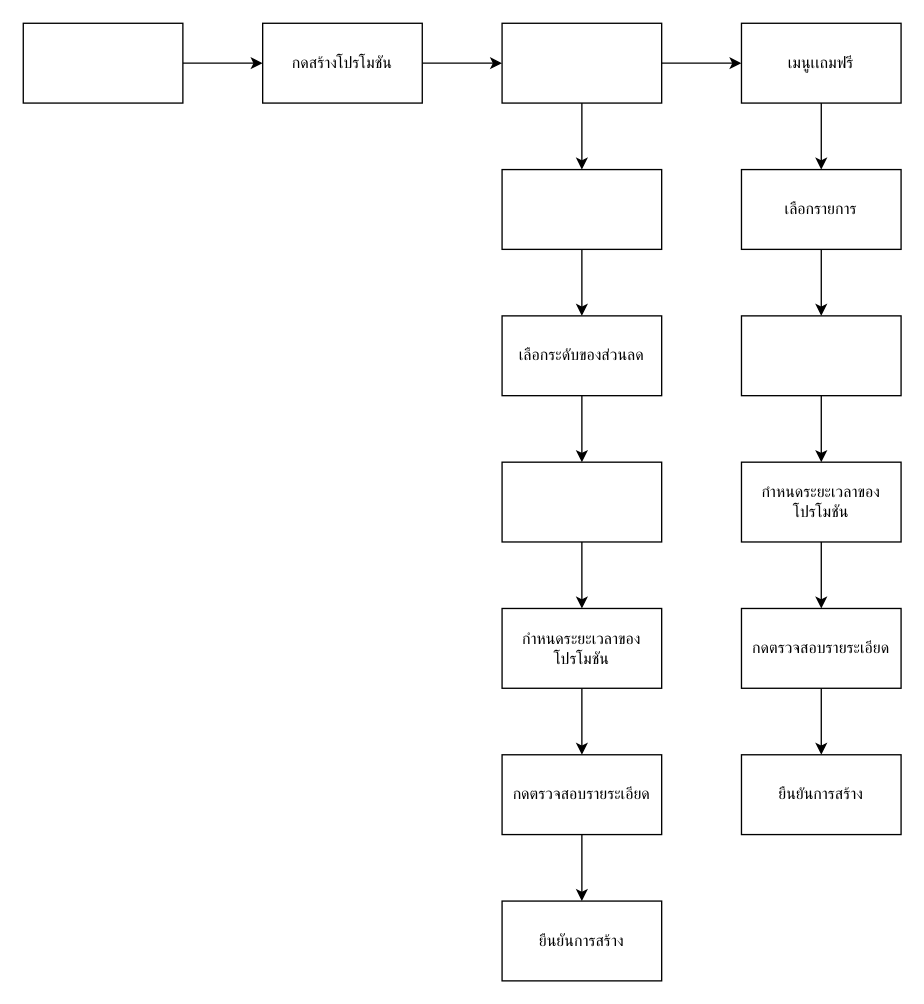
Some shapes in this 924 by 1004 pixel diagram are drawn without their labels. Each missing label, with the centre of its shape:
"กำหนดขั้นต่ำการสั่งซื้อ" goes at pixel 820 355.
"ระบุเปอร์เซ็นของส่วนลด" goes at pixel 581 501.
"เปอร์เซ็นส่วนลด" goes at pixel 581 208.
"เพิ่มโปรโมชัน" goes at pixel 102 62.
"เลือกรูปเเบบโปรโมชัน" goes at pixel 581 62.
